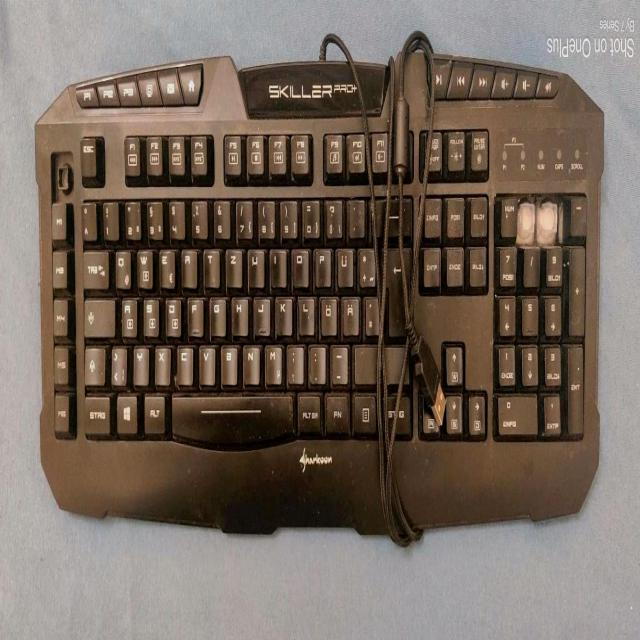0: (300, 193, 319, 238)
1: (100, 195, 118, 238)
2: (123, 195, 140, 238)
3: (145, 194, 163, 239)
4: (167, 194, 184, 237)
5: (189, 194, 207, 237)
6: (211, 193, 229, 238)
7: (234, 194, 252, 238)
8: (256, 194, 274, 238)
9: (278, 193, 297, 238)
a: (120, 293, 136, 335)
accent: (346, 194, 364, 237)
ae: (340, 292, 358, 334)
alt-left: (142, 389, 165, 431)
altgr-right: (296, 388, 321, 432)
b: (219, 341, 237, 382)
c: (175, 341, 192, 382)
caret: (79, 196, 96, 238)
comma: (285, 340, 303, 382)
d: (164, 293, 180, 335)
del: (371, 195, 412, 237)
e: (157, 243, 174, 286)
enter: (384, 243, 407, 335)
f: (185, 293, 202, 334)
g: (207, 292, 225, 334)
h: (230, 292, 248, 334)
hash: (362, 291, 378, 334)
i: (268, 244, 286, 285)
j: (252, 292, 269, 334)
k: (273, 291, 292, 334)
keyboard: (43, 99, 595, 465)
l: (296, 291, 314, 333)
less: (109, 341, 125, 383)
m: (263, 340, 281, 382)
minus: (329, 340, 347, 382)
n: (241, 340, 259, 382)
o: (290, 244, 308, 286)
oe: (318, 292, 336, 334)
p: (312, 243, 330, 285)
plus: (356, 242, 374, 285)
point: (306, 340, 325, 381)
q: (113, 245, 130, 286)
r: (179, 244, 196, 286)
s: (141, 293, 158, 335)
shift-left: (82, 343, 104, 383)
shift-lock: (82, 293, 114, 335)
shift-right: (352, 343, 411, 383)
space: (169, 388, 294, 442)
ss: (323, 194, 341, 237)
strg-left: (82, 391, 110, 434)
strg-right: (386, 390, 412, 437)
t: (202, 244, 219, 285)
tab: (81, 244, 108, 286)
u: (246, 244, 264, 286)
ue: (334, 243, 352, 286)
v: (197, 341, 214, 382)
w: (135, 244, 152, 286)
x: (153, 342, 170, 382)
y: (131, 342, 148, 382)
z: (224, 244, 241, 285)
